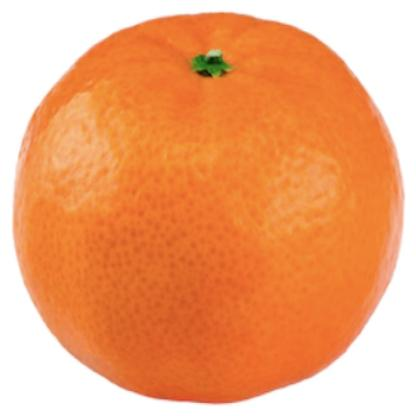fresh: (15, 14, 404, 405)
